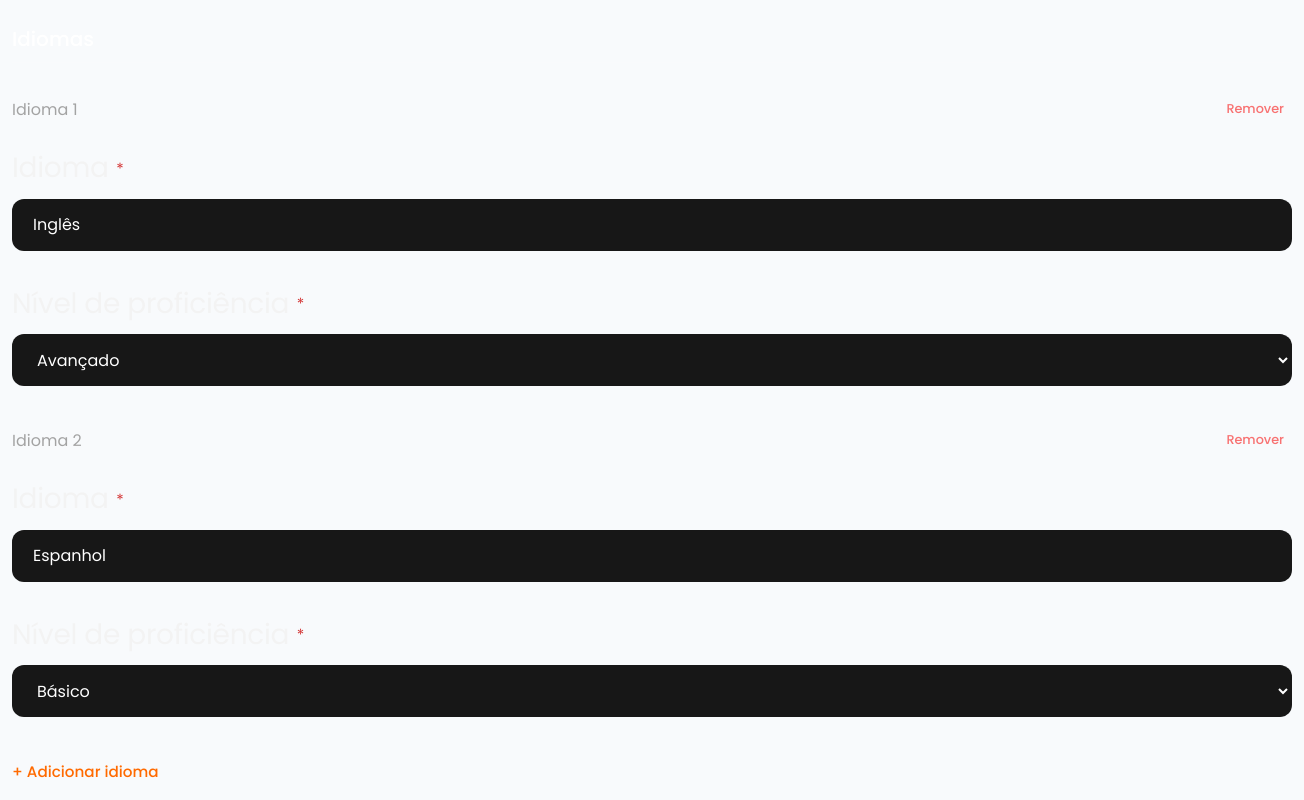
Scenario: FormularioIdiomas › remove uma entrada de idioma ao clicar no botão de remoção
The image size is (1304, 800).
Click the button with aria-label "Remover idioma 1" at (1255, 109), box [1218,87,1292,131]
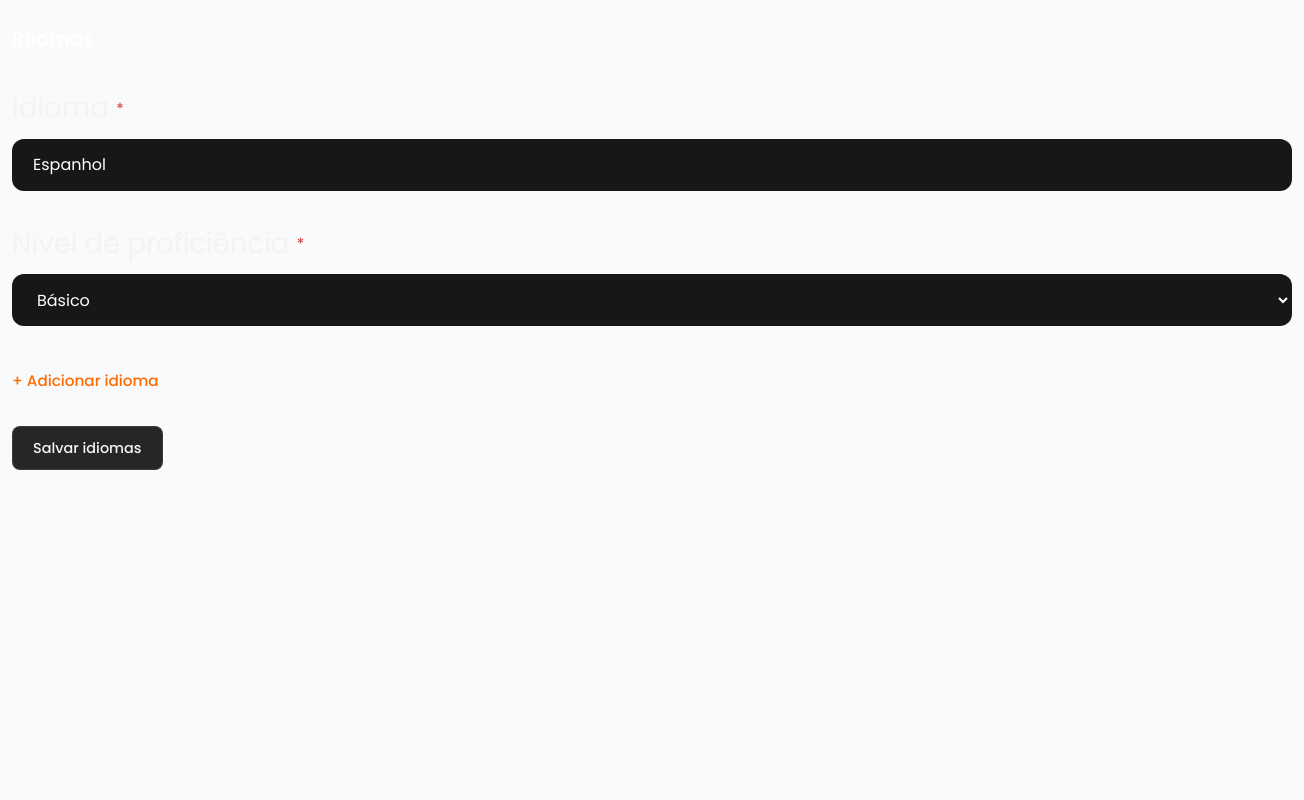
Expected: the number of fields labelled "Idioma" is 1, [12,139,1292,191]
Expected: the field labelled "Idioma" holds "Espanhol", [12,139,1292,191]
